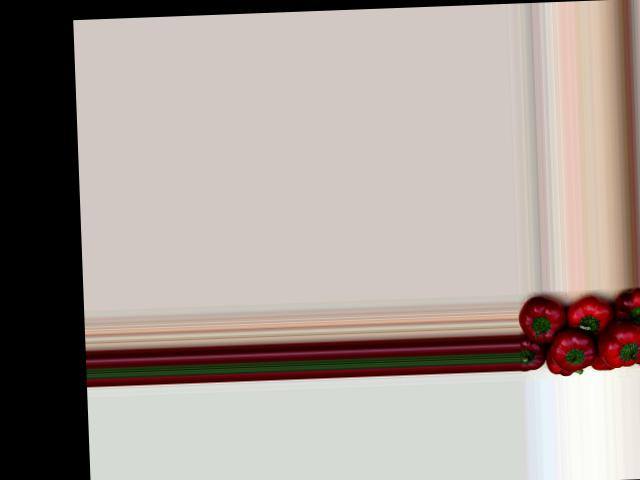bell_pepper: (591, 353, 610, 373)
